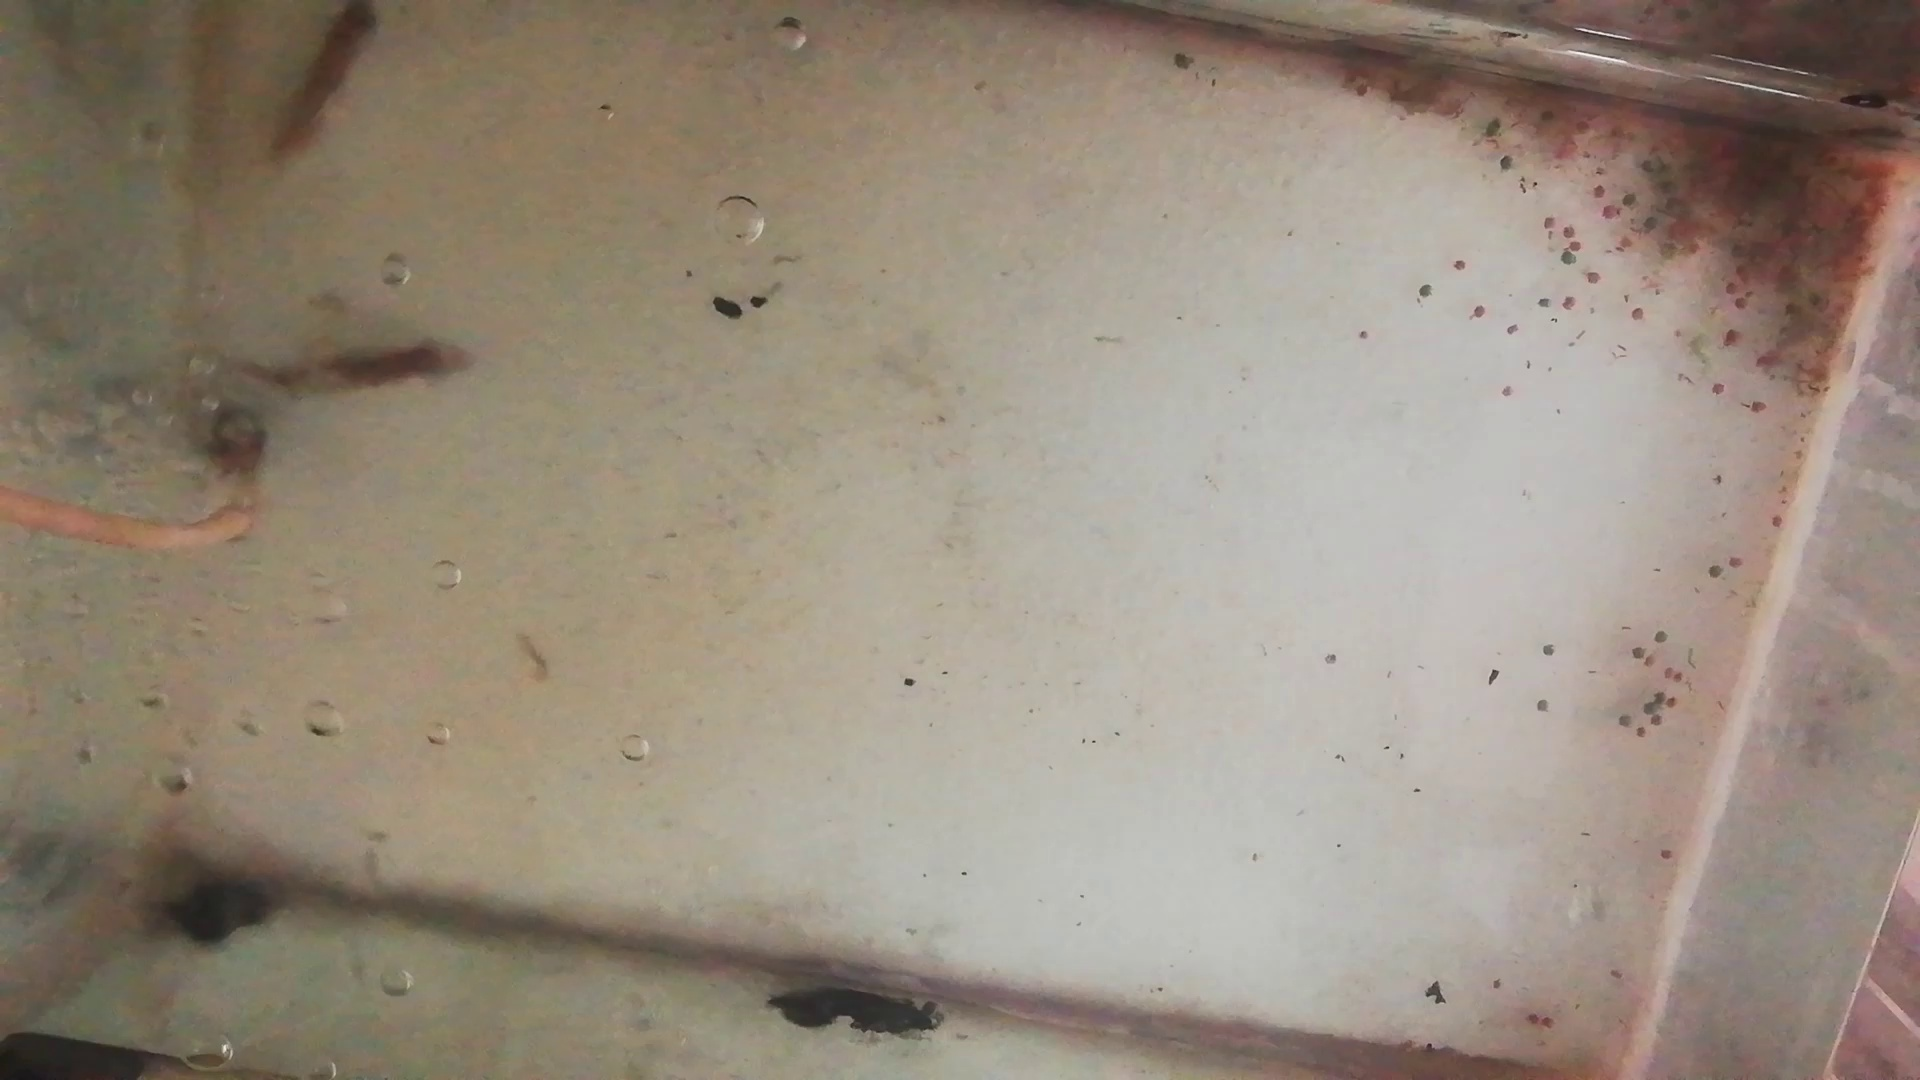fish: (262, 1, 377, 167), (236, 334, 473, 400)
